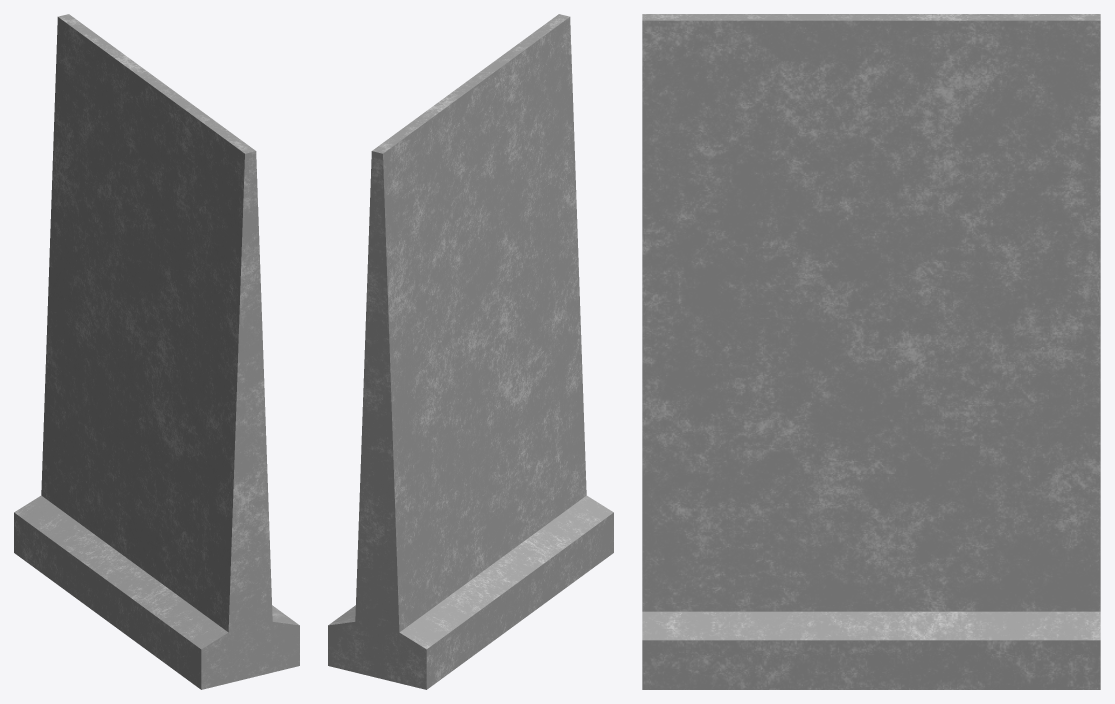
Rendered from ConcreteBarrier.fbx.
3 views of the same model, side by side, from view 1: azimuth 30°, elevation 25°; view 2: azimuth 150°, elevation 25°; view 3: azimuth 270°, elevation 25° (orthographic). The views are drawn at different scales.
Visible parts, largest first — view 1: ConcreteBlock; view 2: ConcreteBlock; view 3: ConcreteBlock.
Boxes of the visible parts, x1,y1,x2,y2 form: ConcreteBlock: [14, 14, 299, 689]; ConcreteBlock: [328, 14, 613, 689]; ConcreteBlock: [642, 14, 1100, 689].
Size of the model in its own units: 30.25 by 154 by 99.53.
